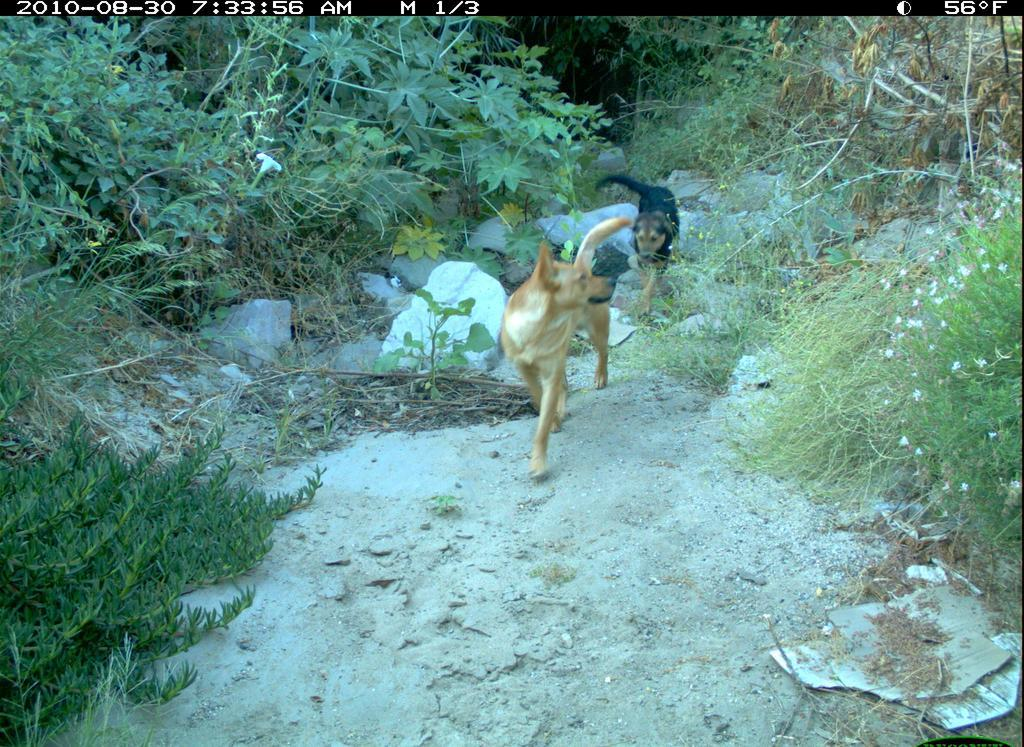dog: (487, 212, 642, 478), (589, 141, 696, 315)
